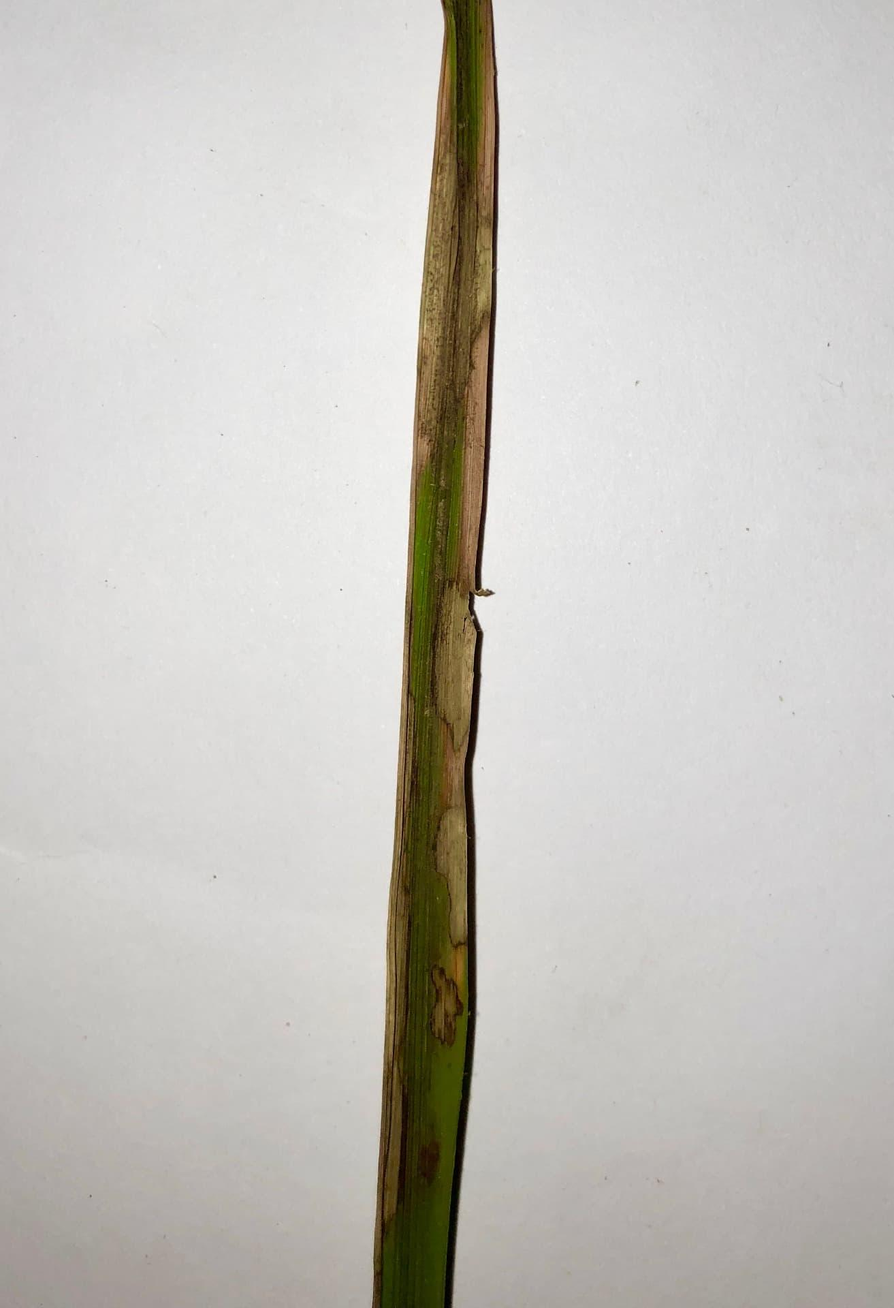Leaf Blight: (374, 76, 494, 1307), (430, 968, 463, 1048)
